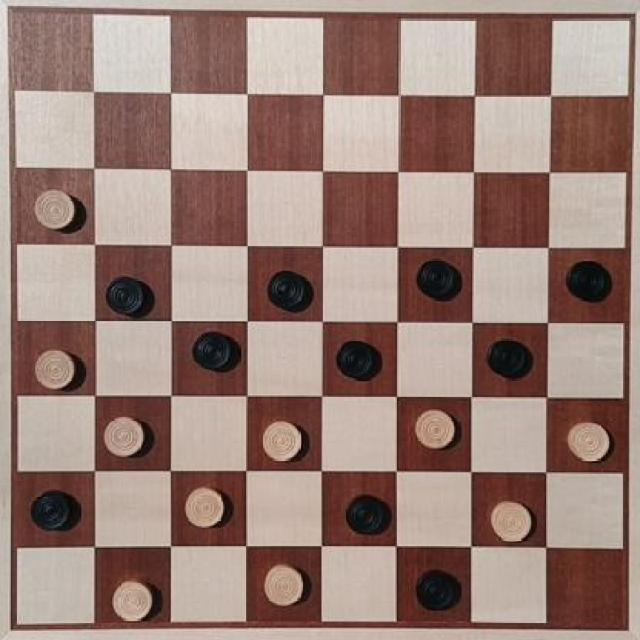BOARD: (8, 11, 634, 629)
black: (404, 561, 468, 615), (560, 252, 614, 312), (407, 253, 465, 308), (100, 266, 154, 321), (336, 489, 392, 541), (26, 488, 84, 533), (334, 332, 383, 385), (484, 333, 537, 381), (187, 328, 238, 376), (265, 262, 307, 312)
white: (28, 180, 79, 234), (106, 572, 160, 623), (257, 415, 309, 466), (95, 408, 145, 461), (24, 341, 80, 388), (564, 413, 614, 464), (482, 497, 540, 538), (260, 561, 308, 606), (182, 484, 227, 530), (415, 406, 457, 452)
